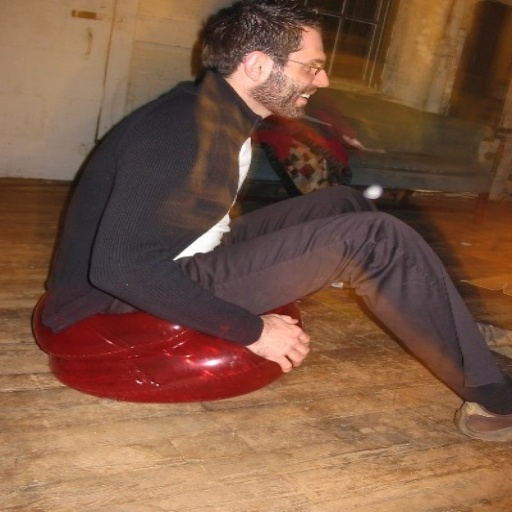hand: (241, 323, 320, 366)
